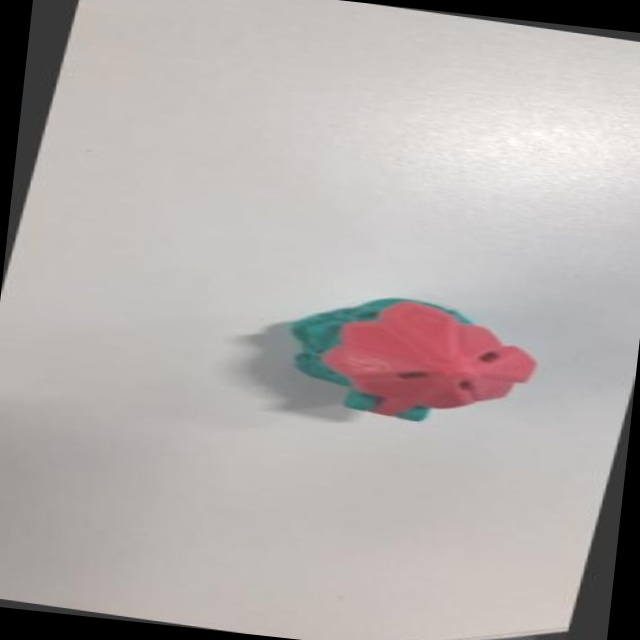House: (254, 272, 553, 437)
